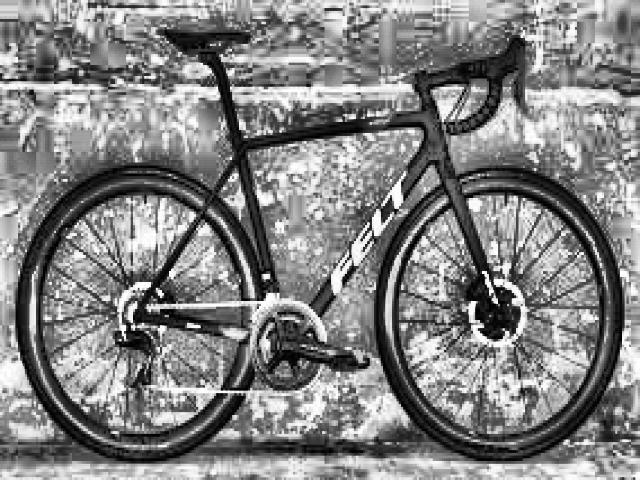cranks_set: (244, 298, 364, 396)
rear_derailleur: (114, 324, 159, 393)
saddle: (163, 25, 251, 59)
sti_shifter: (504, 31, 534, 119)
wheel: (373, 162, 625, 466), (14, 160, 261, 467)
